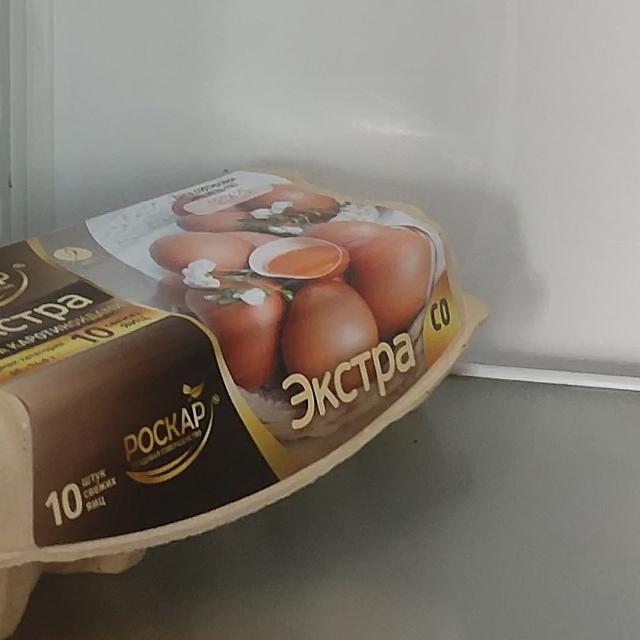egg: (0, 136, 461, 640)
